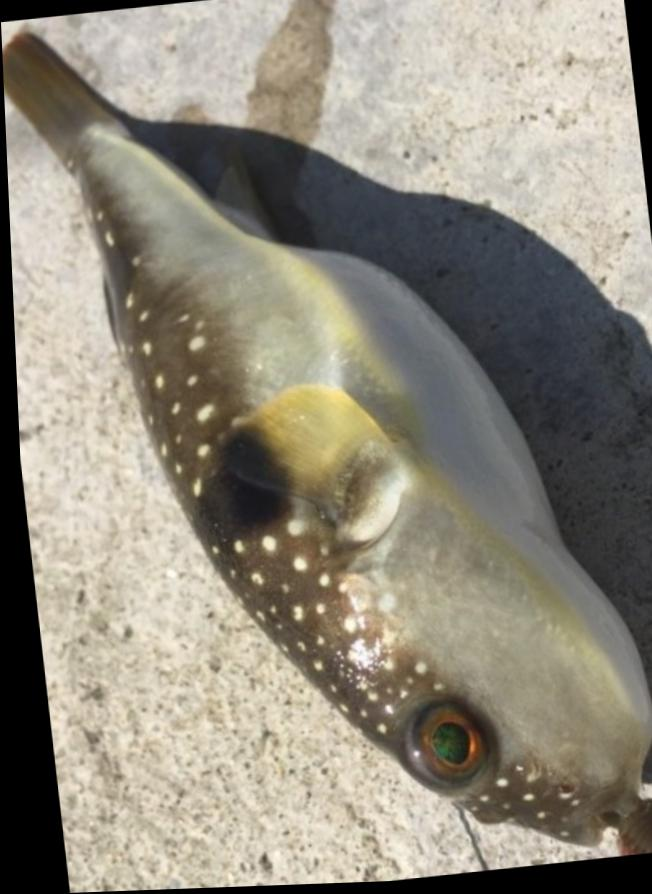fish: (2, 35, 647, 850)
